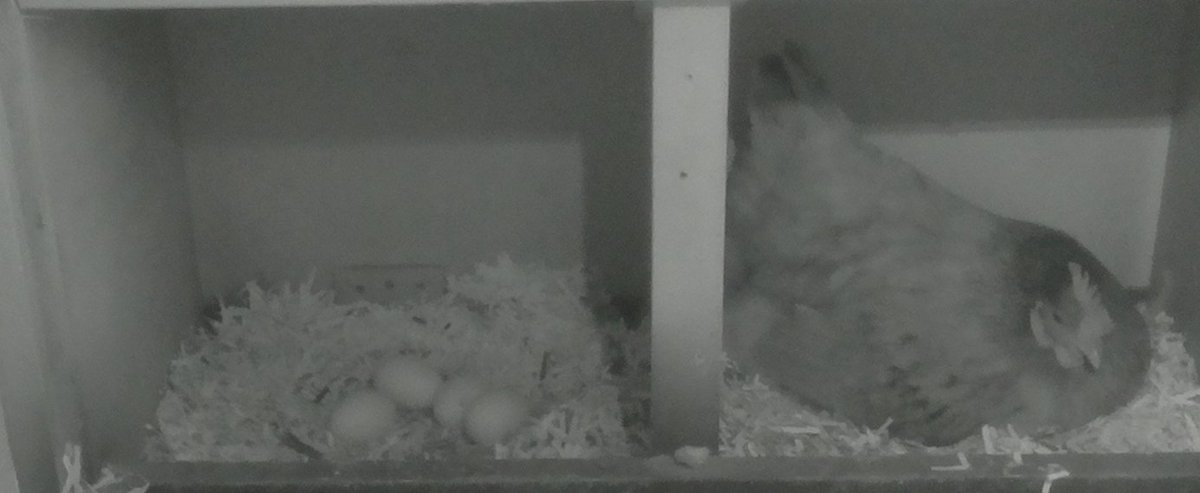egg: (455, 382, 543, 453), (327, 384, 405, 447), (368, 350, 445, 412), (431, 371, 498, 433)
hen: (734, 25, 1159, 447)
